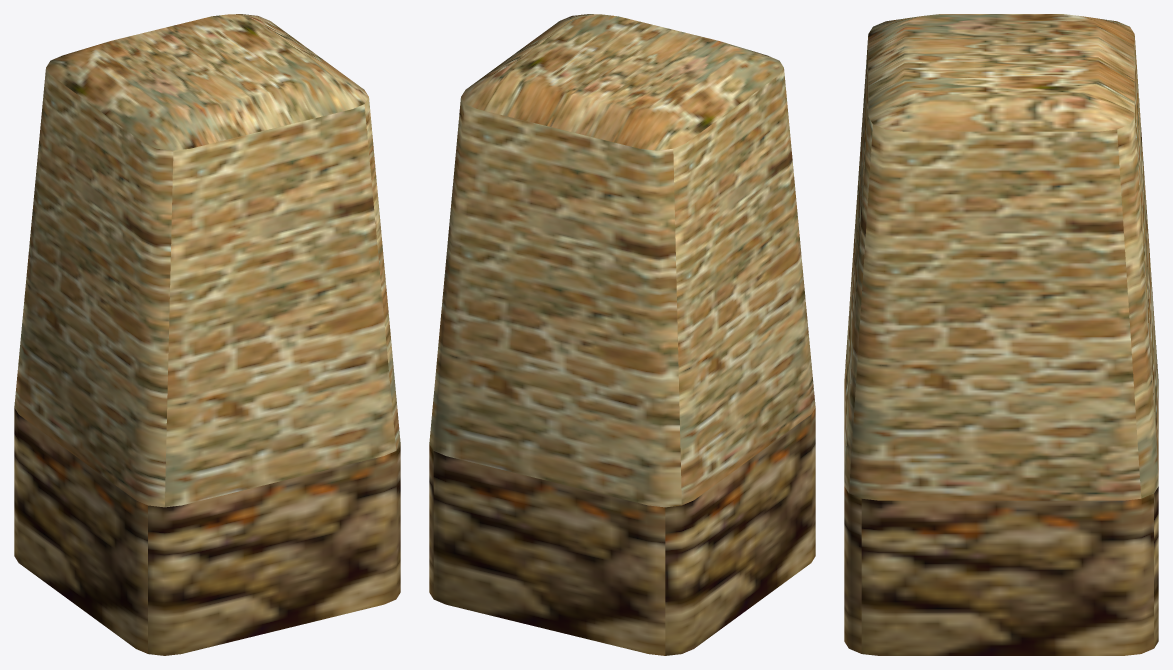
File: wall_tower.dae
3 renders of one model, left to right at view 1: azimuth 30°, elevation 25°; view 2: azimuth 150°, elevation 25°; view 3: azimuth 270°, elevation 25°, orthographic. The views are drawn at different scales.
Visible parts, largest first — view 1: wall_tower; view 2: wall_tower; view 3: wall_tower.
Boxes of the visible parts, x1,y1,x2,y2 form: wall_tower: (14, 14, 400, 655); wall_tower: (429, 14, 815, 655); wall_tower: (844, 14, 1158, 655).
Bounding box in the file's own units: 10.36 × 10.38 × 19.47.
